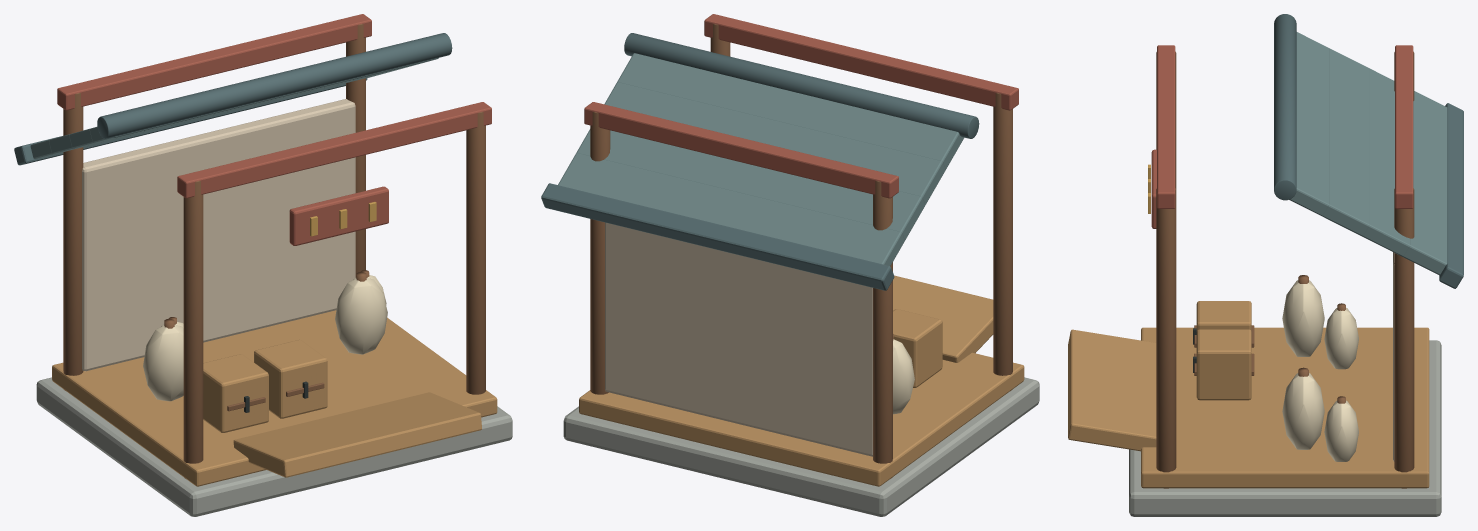
Rendered from building_warehouse_open.glb.
3 renders of one model, left to right at view 1: azimuth 30°, elevation 25°; view 2: azimuth 150°, elevation 25°; view 3: azimuth 270°, elevation 25°, orthographic.
Parts seen in each view (by area): view 1: RearWarehouseWall, RaisedFloor.003, Foundation.003, LoadingRamp, RoofRidge.003, TopBeam.007, TopBeam.006, TimberPost.012, TimberPost.014, TimberPost.013, Crate.002, Crate.003 (+5 smaller); view 2: RearWarehouseWall, RaisedFloor.003, Foundation.003, RearEave.003, TopBeam.006, TopBeam.007, RoofRidge.003, TimberPost.012, LoadingRamp, TimberPost.013, TimberPost.015, Crate.002 (+59 smaller); view 3: RaisedFloor.003, Foundation.003, LoadingRamp, TimberPost.014, TimberPost.015, RoofRidge.003, Crate.003, RearEave.003, TopBeam.006, TopBeam.007, GrainSack.002, GrainSack (+21 smaller).
Part boxes in pixels (left/top/right/bottom): RearWarehouseWall: left=82, top=99, right=355, bottom=371; RaisedFloor.003: left=52, top=310, right=497, bottom=486; Foundation.003: left=36, top=377, right=512, bottom=516; LoadingRamp: left=233, top=392, right=481, bottom=477; RoofRidge.003: left=97, top=33, right=452, bottom=138; TopBeam.007: left=57, top=14, right=371, bottom=110; TopBeam.006: left=177, top=102, right=491, bottom=198; TimberPost.012: left=183, top=181, right=203, bottom=478; TimberPost.014: left=466, top=112, right=485, bottom=394; TimberPost.013: left=63, top=93, right=83, bottom=390; Crate.002: left=203, top=354, right=268, bottom=432; Crate.003: left=254, top=339, right=327, bottom=418; RearWarehouseWall: left=605, top=222, right=872, bottom=456; RaisedFloor.003: left=579, top=352, right=1024, bottom=486; Foundation.003: left=563, top=377, right=1039, bottom=516; RearEave.003: left=541, top=183, right=894, bottom=290; TopBeam.006: left=704, top=14, right=1018, bottom=110; TopBeam.007: left=584, top=102, right=898, bottom=198; RoofRidge.003: left=624, top=33, right=979, bottom=138; TimberPost.012: left=993, top=93, right=1012, bottom=390; LoadingRamp: left=893, top=275, right=993, bottom=362; TimberPost.013: left=873, top=181, right=892, bottom=478; TimberPost.015: left=590, top=112, right=610, bottom=394; Crate.002: left=893, top=309, right=942, bottom=387; RaisedFloor.003: left=1141, top=327, right=1429, bottom=488; Foundation.003: left=1129, top=340, right=1441, bottom=516; LoadingRamp: left=1068, top=329, right=1156, bottom=451; TimberPost.014: left=1156, top=188, right=1176, bottom=488; TimberPost.015: left=1394, top=188, right=1414, bottom=488; RoofRidge.003: left=1274, top=14, right=1296, bottom=200; Crate.003: left=1196, top=329, right=1251, bottom=400; RearEave.003: left=1439, top=103, right=1463, bottom=288; TopBeam.006: left=1157, top=45, right=1175, bottom=208; TopBeam.007: left=1395, top=45, right=1413, bottom=208; GrainSack.002: left=1282, top=373, right=1324, bottom=449; GrainSack: left=1282, top=280, right=1324, bottom=356.
Bounding box in the file's own units: 2.58 × 2.49 × 2.59.
